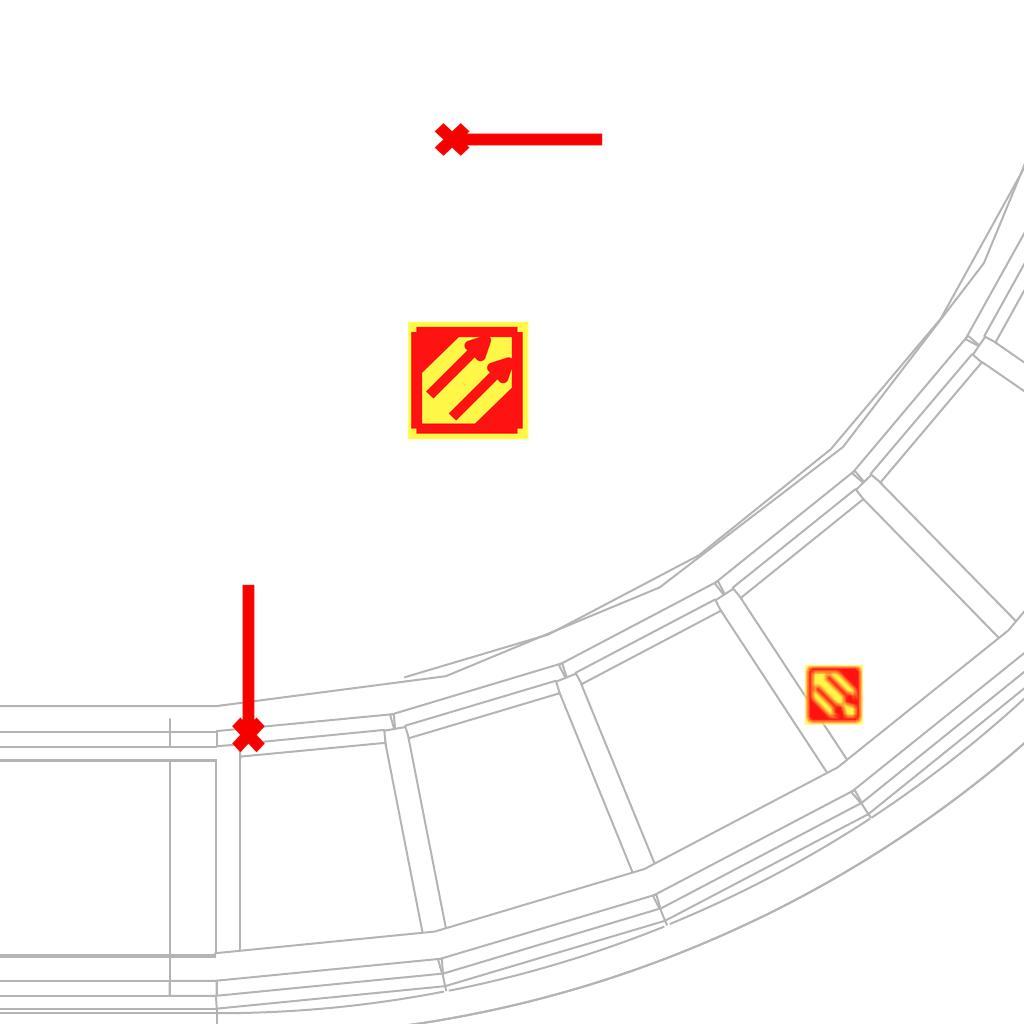ASR_Ansaugoeffnung: (223, 579, 269, 755), (432, 114, 608, 160)
ASR_Ansaugrauchmelder: (406, 318, 531, 443), (803, 664, 865, 726)
